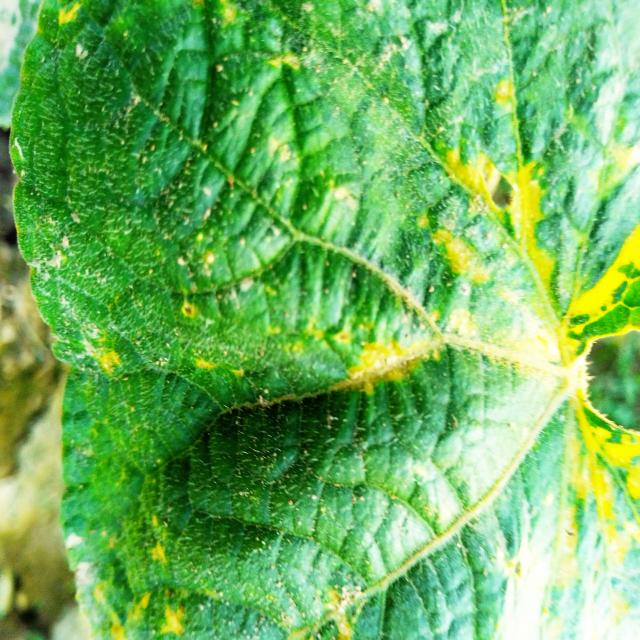Downy-Mildew: (10, 0, 640, 640)
